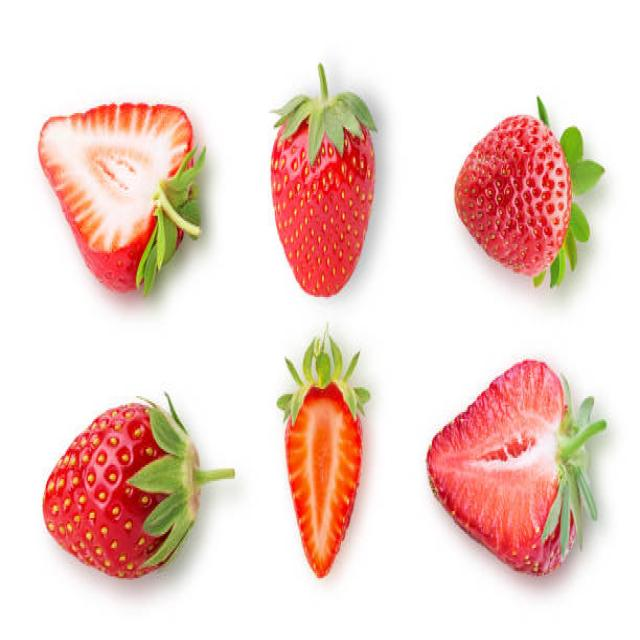Healthy Fruit: (425, 360, 575, 576), (38, 103, 192, 289), (43, 406, 181, 580), (454, 113, 571, 275), (270, 119, 374, 298), (284, 386, 363, 579)
